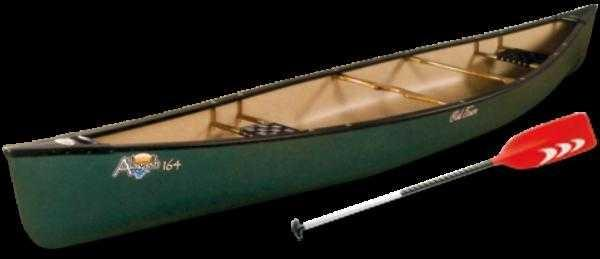kayak: (4, 16, 597, 251)
